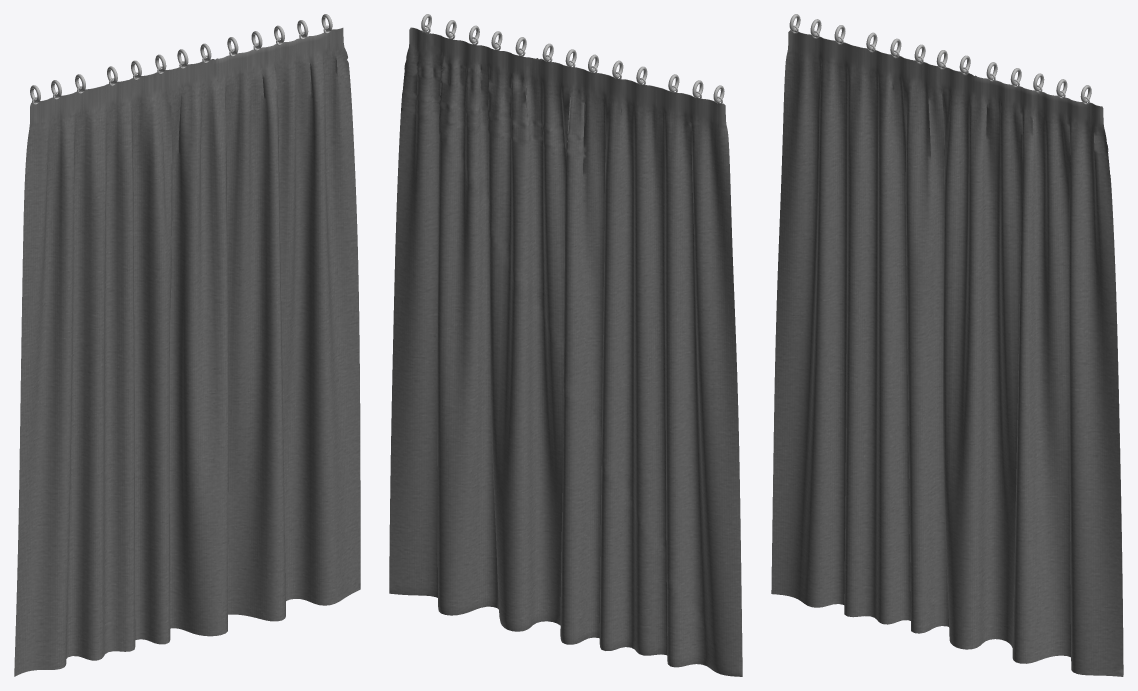
Rendered from curtains.fbx.
3 views of the same model, side by side, from view 1: azimuth 30°, elevation 25°; view 2: azimuth 150°, elevation 25°; view 3: azimuth 330°, elevation 25° (orthographic).
Parts seen in each view (by area): view 1: Plane, Torus.016; view 2: Plane, Torus.016; view 3: Plane, Torus.016.
Part boxes in pixels (x1=…): Plane: x1=14, y1=28, x2=360, y2=676; Torus.016: x1=30, y1=14, x2=332, y2=104; Plane: x1=389, y1=27, x2=742, y2=676; Torus.016: x1=421, y1=14, x2=724, y2=103; Plane: x1=771, y1=30, x2=1123, y2=676; Torus.016: x1=789, y1=14, x2=1091, y2=104.
Size of the model in its own units: 134 by 214 by 13.43.
